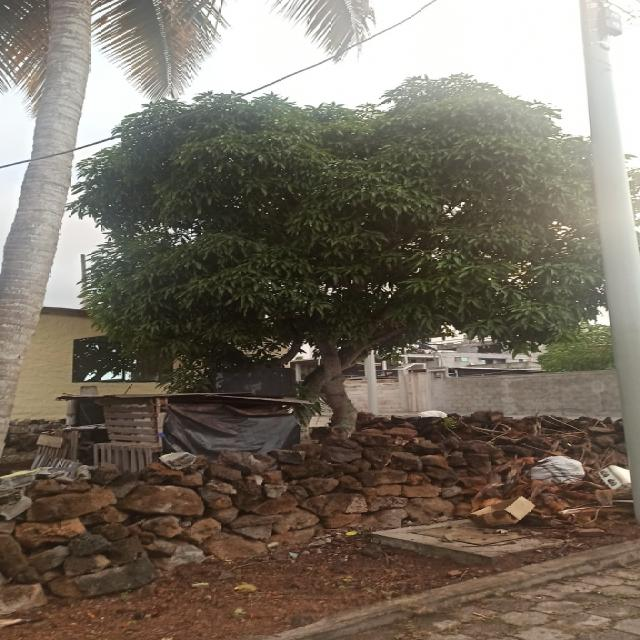Mango-Tree: (110, 99, 591, 429)
